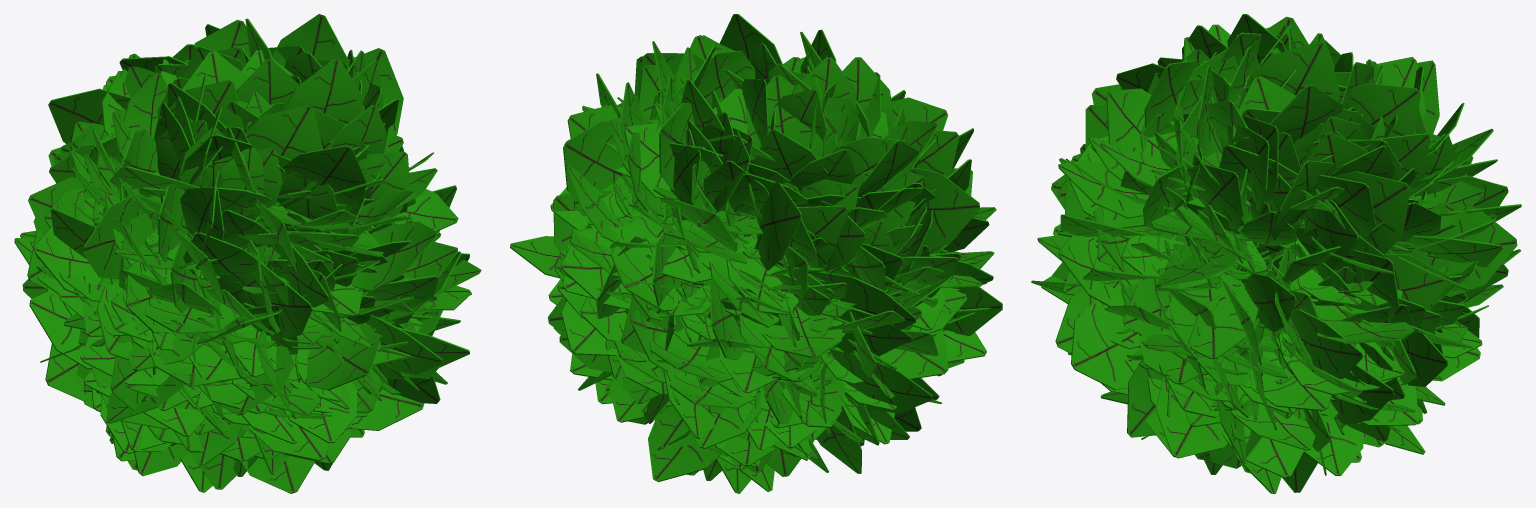
Rendered from Leaves.fbx.
3 views of the same model, side by side, from view 1: azimuth 30°, elevation 25°; view 2: azimuth 150°, elevation 25°; view 3: azimuth 270°, elevation 25° (orthographic). The views are drawn at different scales.
Parts seen in each view (by area): view 1: Plane.032; view 2: Plane.032; view 3: Plane.032.
Boxes of the visible parts, x1,y1,x2,y2 form: Plane.032: (14,14,481,493); Plane.032: (510,14,1002,493); Plane.032: (1031,14,1521,493).
Size of the model in its own units: 328 by 332 by 337.
